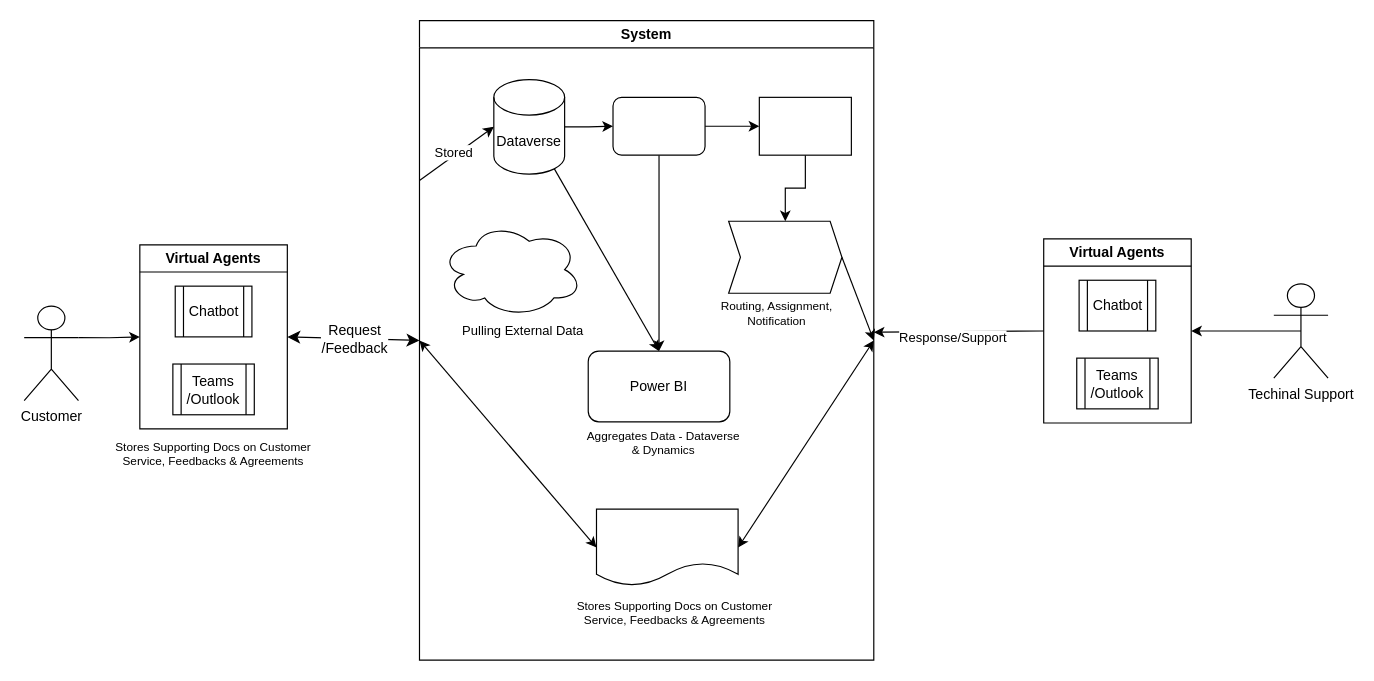
Image size: 1374x681. Some labels were removed from this diagram. Each missing label, with the centre of its shape:
Azure Functions: (x=511, y=269)
Dynamics 365: (x=658, y=125)
Generate Ticket: (x=804, y=125)
Power Automate: (x=784, y=256)
Sharepoint: (x=666, y=547)
